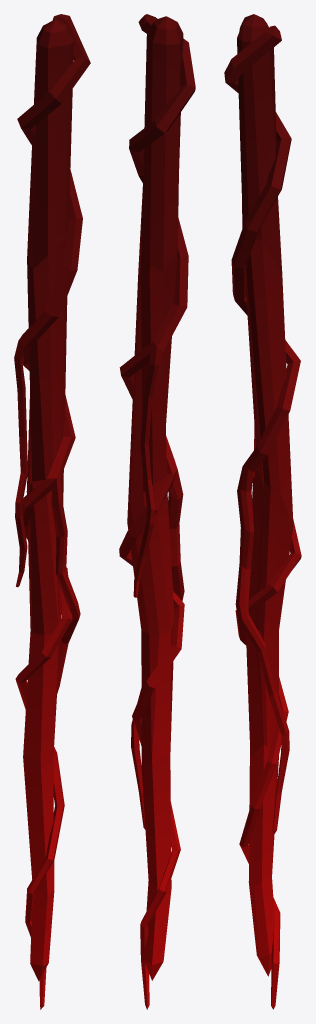
The model's file is SM_Env_Vines_03.gltf.
3 views of the same model, side by side, from view 1: azimuth 90°, elevation 25°; view 2: azimuth 150°, elevation 25°; view 3: azimuth 330°, elevation 25° (orthographic).
Visible parts, largest first — view 1: SM_Env_Vines_03; view 2: SM_Env_Vines_03; view 3: SM_Env_Vines_03.
Part boxes in pixels (bbox=[...]): SM_Env_Vines_03: bbox=[14, 14, 90, 1009]; SM_Env_Vines_03: bbox=[119, 14, 195, 1009]; SM_Env_Vines_03: bbox=[224, 14, 301, 1009].
Bounding box in the file's own units: 0.4638 × 6.55 × 0.457.
